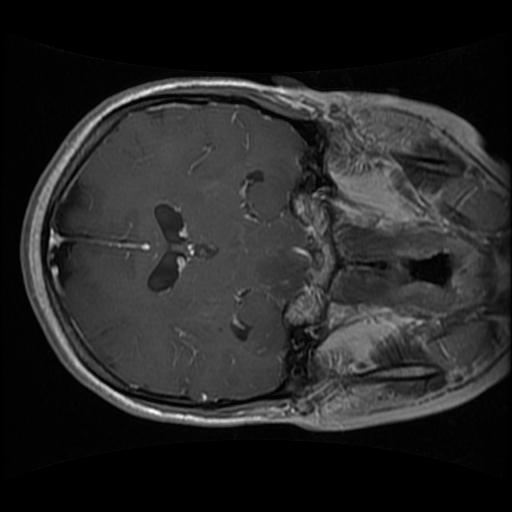glioma: (255, 250, 308, 303)
